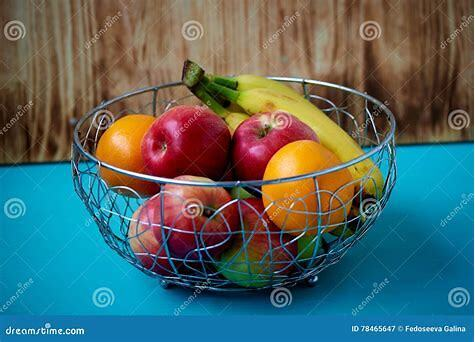apple: (230, 110, 324, 196), (141, 105, 231, 190), (217, 197, 294, 290), (158, 177, 234, 259), (128, 214, 211, 278)
banana: (228, 74, 384, 193)
orange: (261, 143, 353, 233), (96, 113, 173, 200)
